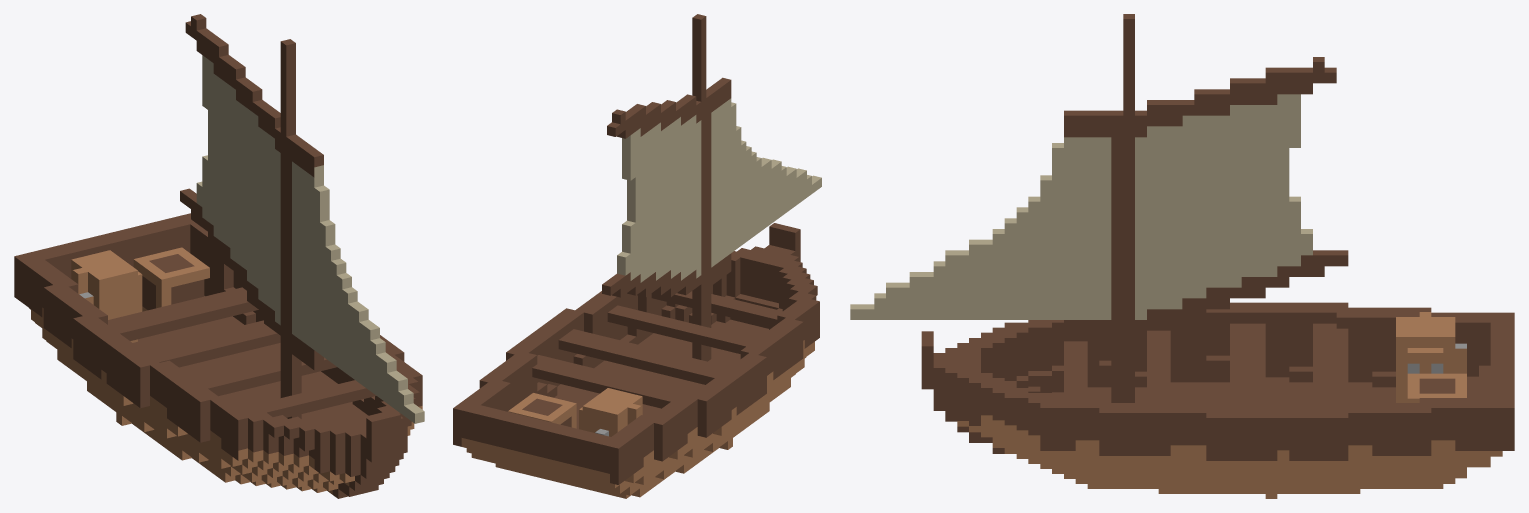
The model's file is sloop.glb.
The picture shows the model from 3 angles, left to right: view 1: azimuth 30°, elevation 25°; view 2: azimuth 150°, elevation 25°; view 3: azimuth 270°, elevation 25°; orthographic projection. The views are drawn at different scales.
Visible parts, largest first — view 1: Sail_Voxelized; view 2: Sail_Voxelized; view 3: Sail_Voxelized.
Boxes of the visible parts, box(x1,y1,x2,y2) form: Sail_Voxelized: box(14, 14, 424, 498); Sail_Voxelized: box(453, 14, 821, 498); Sail_Voxelized: box(850, 14, 1514, 498).
Size of the model in its own units: 0.3949 by 0.6869 by 0.9616.
